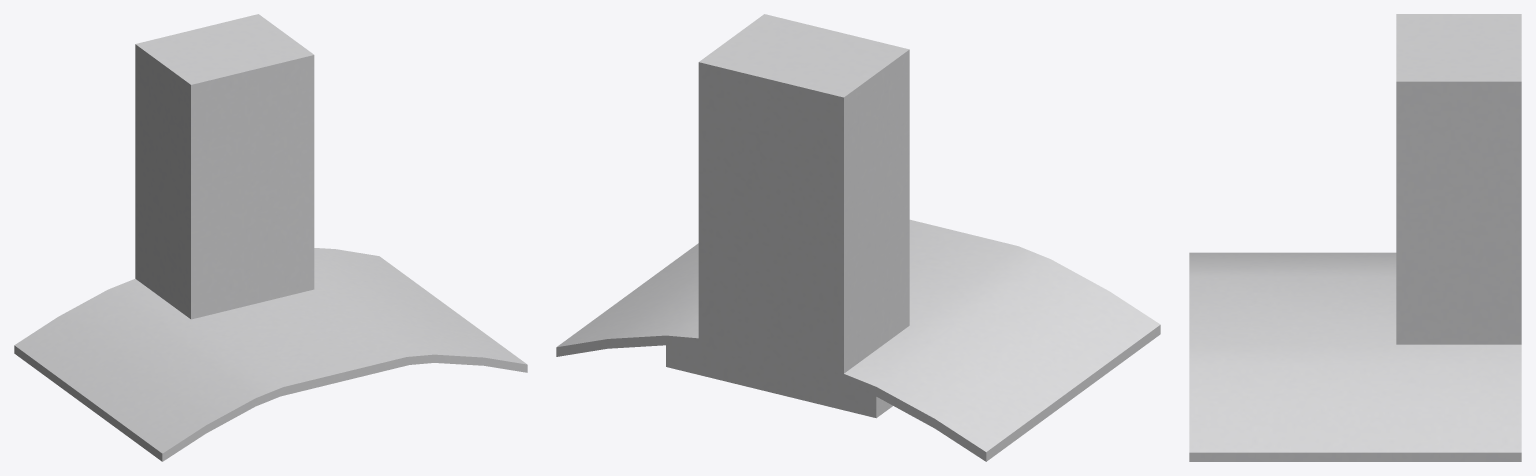
Rendered from KitchenExhaust06.fbx.
The picture shows the model from 3 angles, left to right: view 1: azimuth 30°, elevation 25°; view 2: azimuth 150°, elevation 25°; view 3: azimuth 270°, elevation 25°; orthographic projection. The views are drawn at different scales.
Visible parts, largest first — view 1: KitchenExhaust06; view 2: KitchenExhaust06; view 3: KitchenExhaust06.
Part boxes in pixels (bbox=[...]): KitchenExhaust06: bbox=[14, 14, 527, 461]; KitchenExhaust06: bbox=[556, 14, 1160, 461]; KitchenExhaust06: bbox=[1189, 14, 1521, 461].
Bounding box in the file's own units: 63.3 × 46.38 × 44.47.
